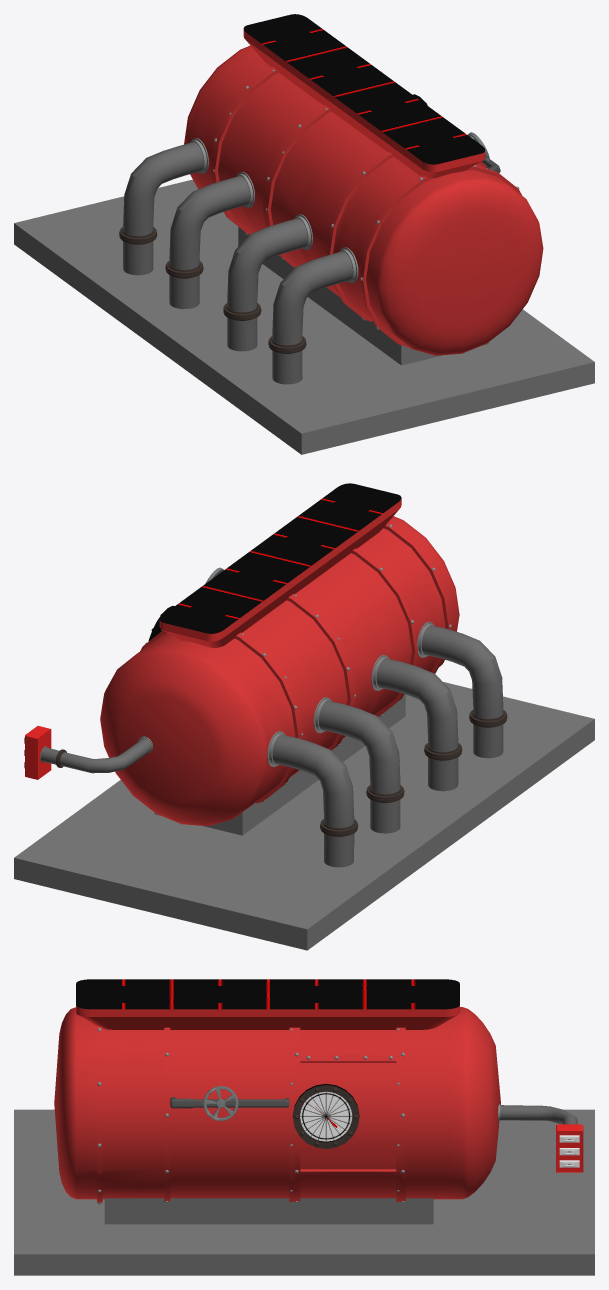
The model's file is Tank1.fbx.
The picture shows the model from 3 angles, top to bottom: view 1: azimuth 30°, elevation 25°; view 2: azimuth 150°, elevation 25°; view 3: azimuth 270°, elevation 25°; orthographic projection.
Parts seen in each view (by area): view 1: pCylinder21, pCube183, pCube271, pCube195, pCube204, pCube206, pCube202, pCube200; view 2: pCube183, pCylinder21, pCube271, pCube206, pCube202, pCube204, pCube195, pCube200, pCube510, pCube516; view 3: pCylinder21, pCube183, pCube271, pCube200, pCube182, pCube510, pCube516, pCube159, pCylinder22.
Boxes of the visible parts, x1,y1,x2,y2 form: pCylinder21: (184,45,543,355); pCube183: (14,179,594,454); pCube271: (243,14,485,178); pCube195: (123,142,203,275); pCube204: (227,218,307,351); pCube206: (272,251,352,384); pCube202: (169,176,249,309); pCube200: (238,227,489,365); pCube183: (14,682,594,950); pCylinder21: (100,516,459,825); pCube271: (159,483,401,647); pCube206: (421,625,503,758); pCube202: (318,701,400,833); pCube204: (376,658,458,791); pCube195: (272,735,354,867); pCube200: (154,694,405,835); pCube510: (40,736,153,773); pCube516: (25,726,51,779); pCylinder21: (54,1007,500,1202); pCube183: (14,1109,594,1275); pCube271: (76,979,459,1029); pCube200: (104,1198,433,1224); pCube182: (292,1083,359,1148); pCube510: (498,1104,577,1124); pCube516: (556,1124,583,1172); pCube159: (170,1097,289,1108); pCylinder22: (203,1086,238,1120).
Bounding box in the file's own units: 86.86 × 64.35 × 147.
4 materials, 3 textured.
